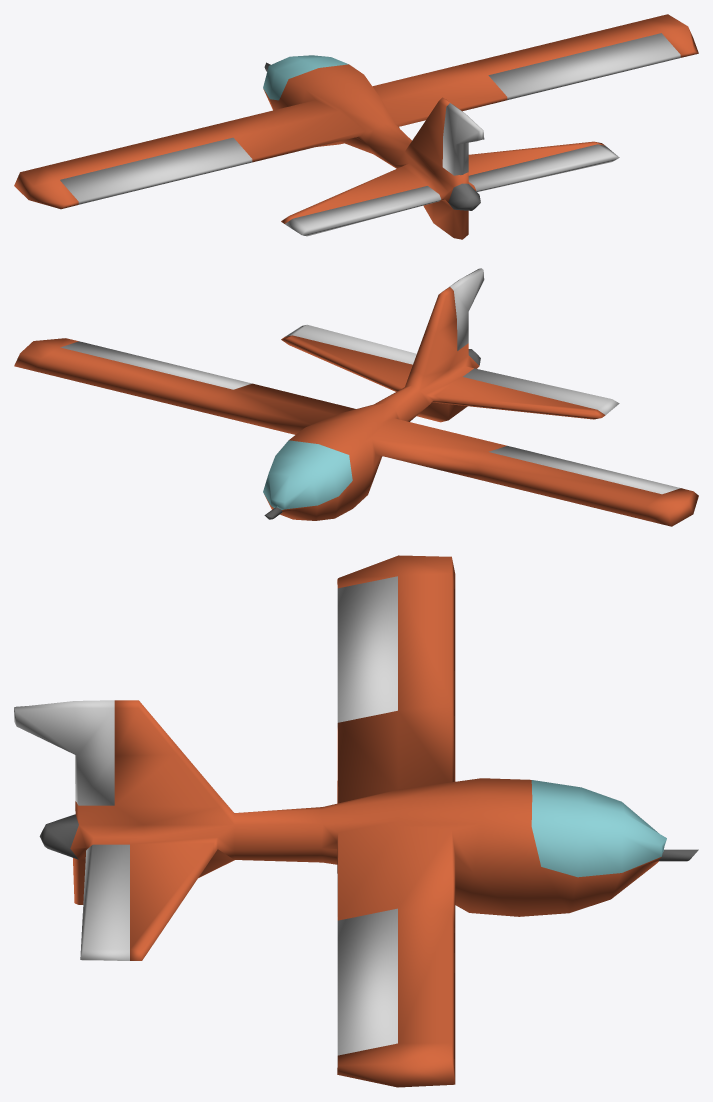
Rendered from DeeperSpaceShip.fbx.
The picture shows the model from 3 angles, top to bottom: view 1: azimuth 30°, elevation 25°; view 2: azimuth 150°, elevation 25°; view 3: azimuth 270°, elevation 25°; orthographic projection. The views are drawn at different scales.
Parts seen in each view (by area): view 1: Cube, Cube.003, Cube.001, Cube.004, Cube.002; view 2: Cube, Cube.003, Cube.001, Cube.004, Cube.002; view 3: Cube, Cube.004, Cube.001, Cube.002, Cube.003.
Part boxes in pixels (x1,y1,x2,y2): Cube: (14, 14, 698, 239); Cube.003: (285, 144, 619, 236); Cube.001: (60, 137, 252, 204); Cube.004: (488, 33, 680, 99); Cube.002: (442, 103, 484, 175); Cube: (14, 287, 698, 526); Cube.003: (285, 324, 619, 414); Cube.001: (489, 445, 680, 494); Cube.004: (60, 341, 251, 389); Cube.002: (448, 268, 484, 350); Cube: (39, 555, 698, 1087); Cube.004: (337, 908, 397, 1055); Cube.001: (337, 576, 397, 722); Cube.002: (14, 700, 114, 805); Cube.003: (80, 844, 129, 960).
Size of the model in its own units: 24.32 by 4.5 by 13.65.
